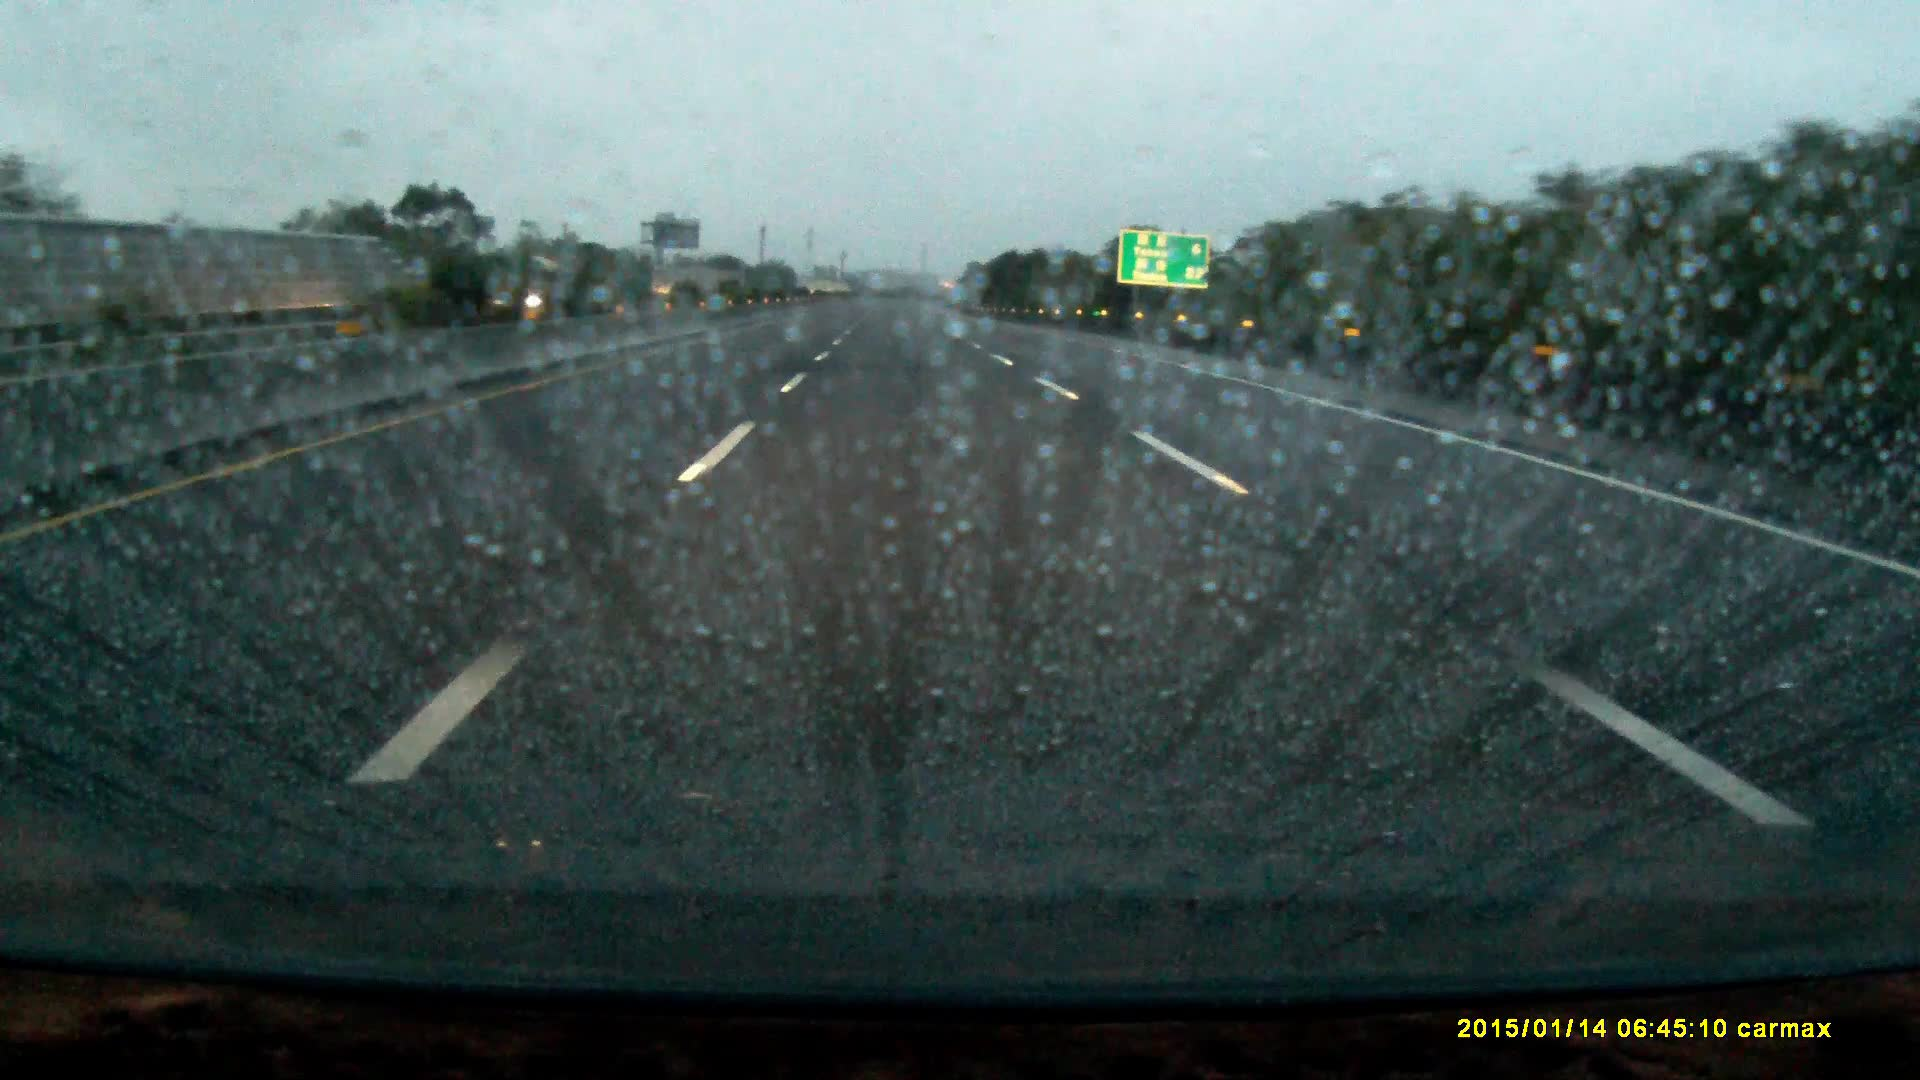vehicle: (492, 258, 588, 311)
